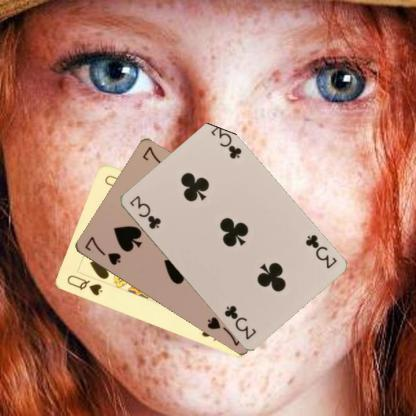3c: (126, 193, 162, 231), (302, 232, 338, 270)
7s: (81, 233, 122, 267)
Qs: (64, 272, 104, 297)
